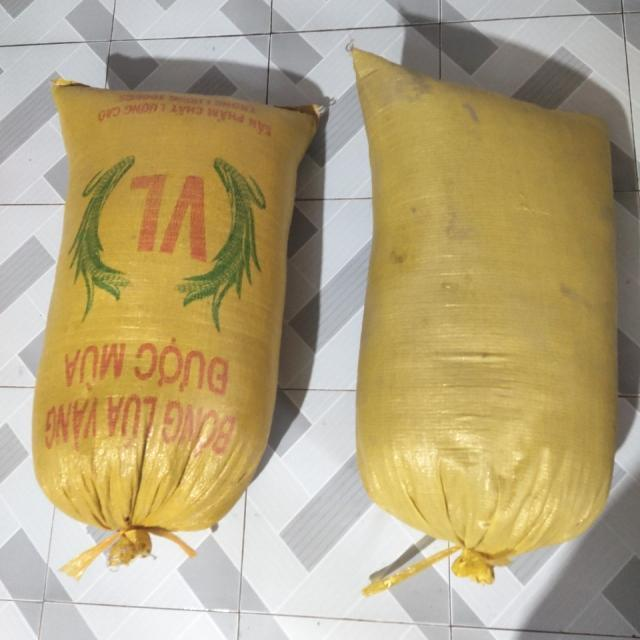gunny_bag: (32, 79, 319, 579), (352, 48, 619, 584)
